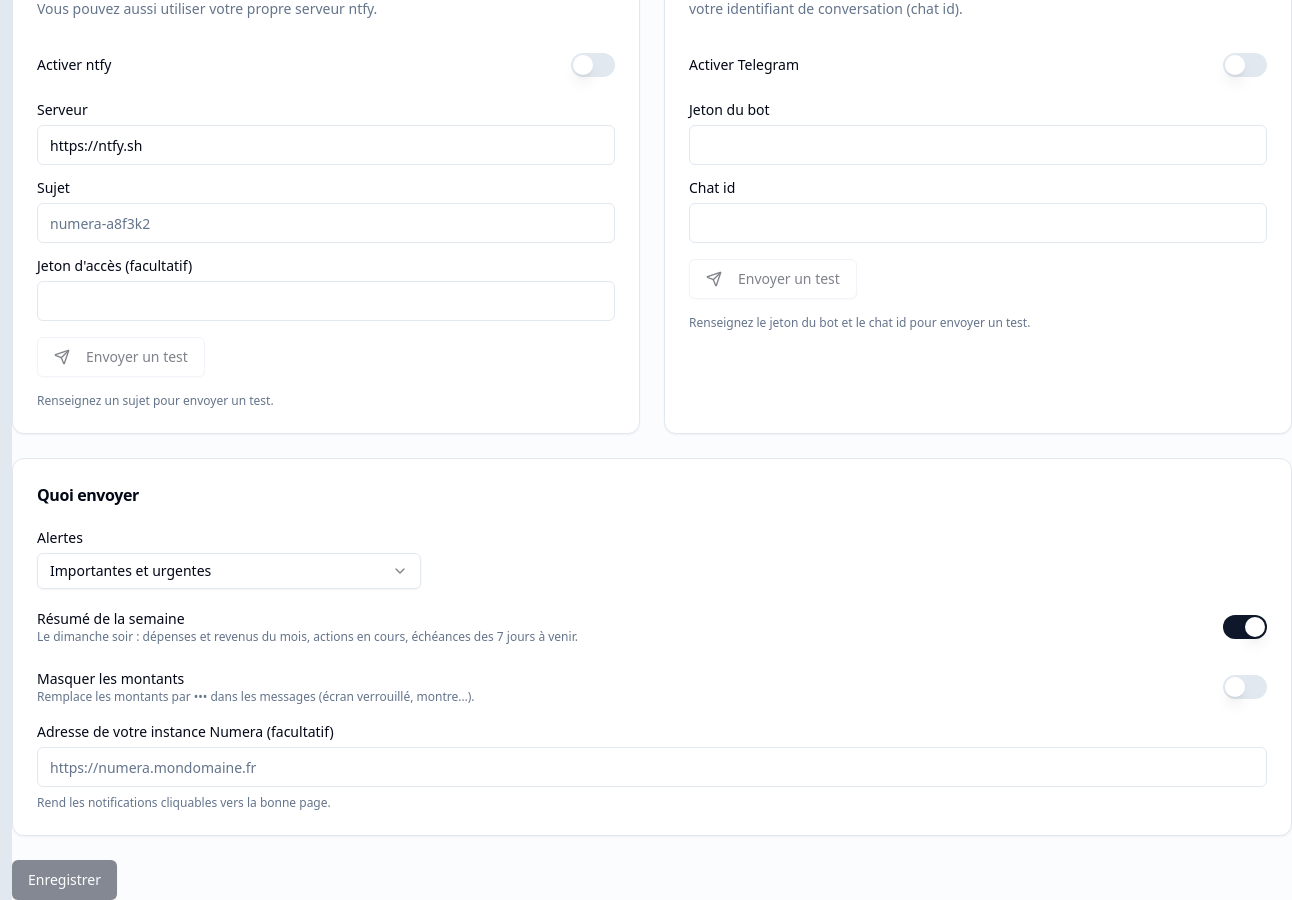
Test: NotificationsTab › affiche « Enregistrement… » désactivé pendant l'envoi
(page scrolled)
Type "https://numera.test" into the field labelled "Adresse de votre instance Numera (facultatif)" at (652, 767), box [37, 747, 1267, 787]
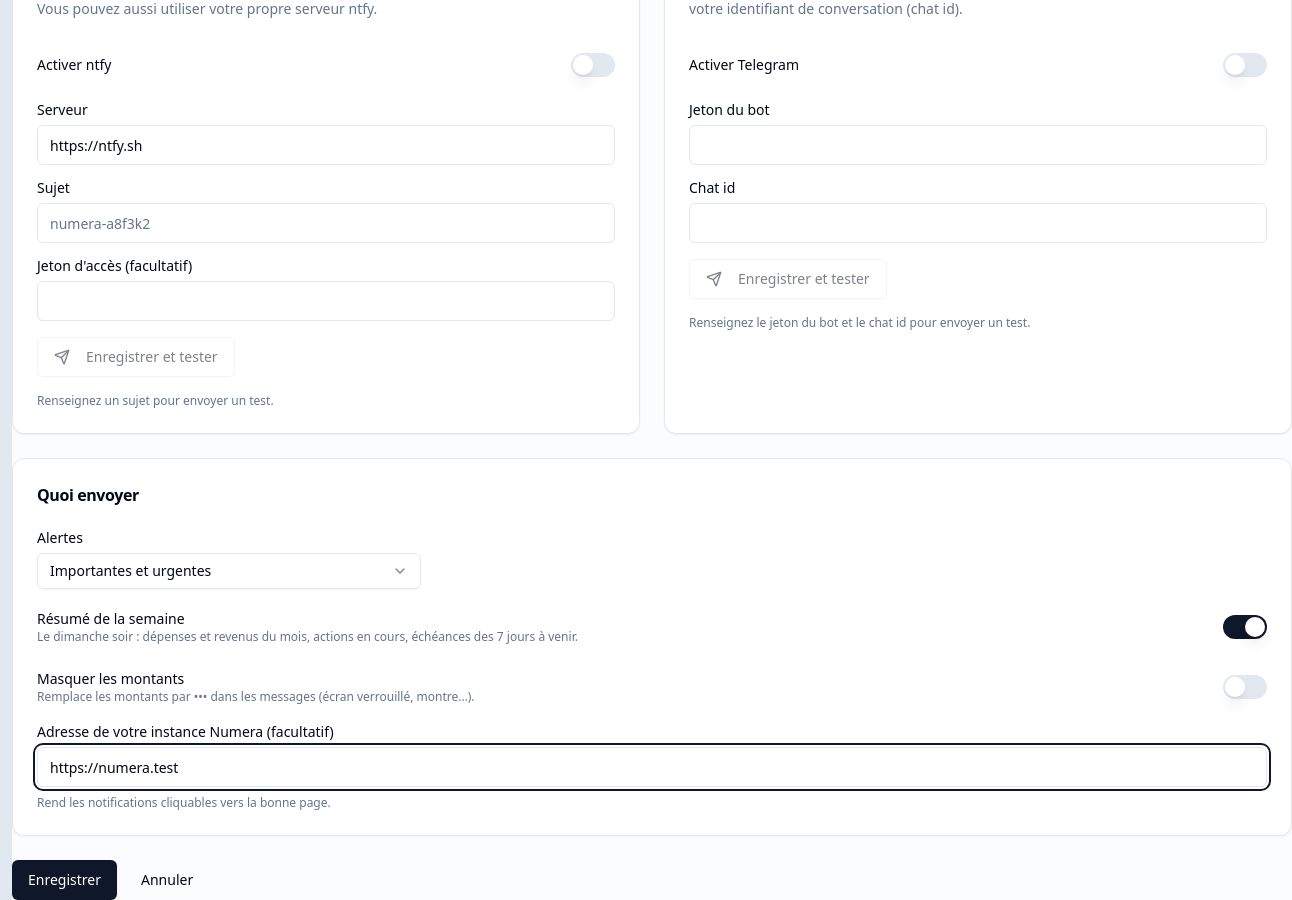
Click the button "Enregistrer" at (64, 880), box [12, 860, 117, 899]
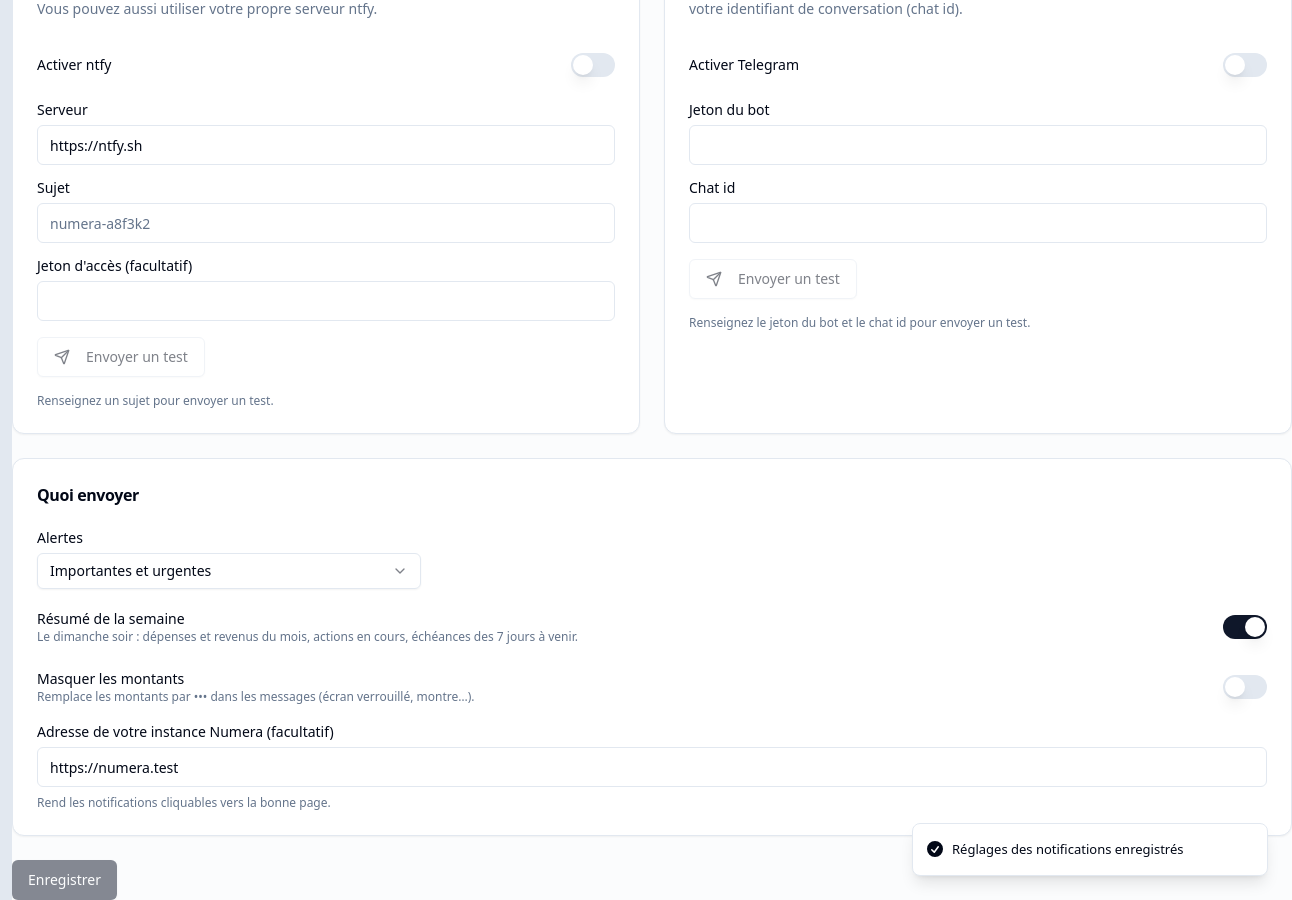
Check: the button named "Enregistrement…" is disabled, box [12, 860, 117, 899]
Check: the text "Réglages des notifications enregistrés" is shown, box [952, 840, 1184, 859]
